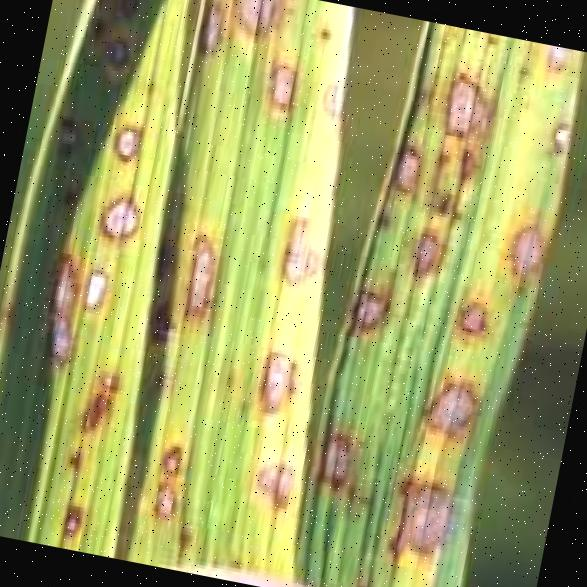Brown_Spot: (28, 242, 122, 356), (385, 452, 470, 564), (421, 346, 496, 443), (270, 196, 344, 293), (172, 212, 232, 322), (134, 421, 194, 531), (436, 53, 503, 139), (254, 340, 322, 417), (315, 417, 372, 492), (89, 180, 159, 241), (73, 367, 130, 438), (448, 284, 502, 356), (100, 110, 158, 176), (248, 442, 304, 510), (502, 206, 552, 276), (258, 58, 306, 112), (187, 0, 235, 53), (388, 142, 426, 204), (403, 228, 441, 282), (319, 70, 356, 119), (544, 108, 574, 160), (60, 486, 89, 534), (538, 46, 572, 78)
